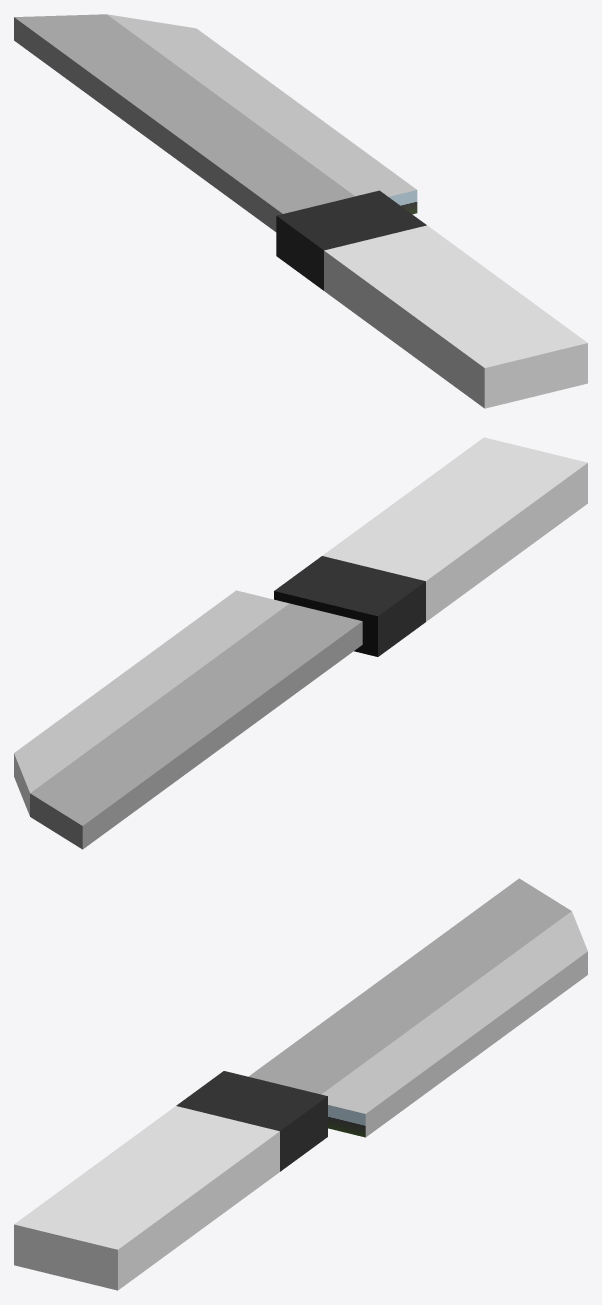
Rendered from Knife.fbx.
3 renders of one model, top to bottom at view 1: azimuth 30°, elevation 25°; view 2: azimuth 150°, elevation 25°; view 3: azimuth 330°, elevation 25°, orthographic.
Parts seen in each view (by area): view 1: Cube; view 2: Cube; view 3: Cube.
Boxes of the visible parts, bbox=[...] form: Cube: bbox=[14, 14, 587, 408]; Cube: bbox=[14, 437, 587, 849]; Cube: bbox=[14, 878, 587, 1290].
Bounding box in the file's own units: 0.4313 × 0.1186 × 2.58.
